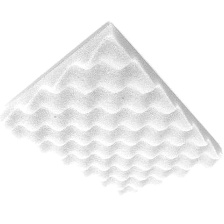foam_box: (0, 17, 224, 204)
